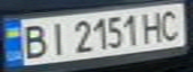1: (121, 11, 142, 46), (90, 15, 109, 51)
2: (69, 16, 93, 54)
5: (106, 12, 127, 48)
B: (15, 20, 51, 60)
C: (157, 7, 187, 42)
H: (139, 8, 169, 44)
I: (42, 19, 69, 56)
